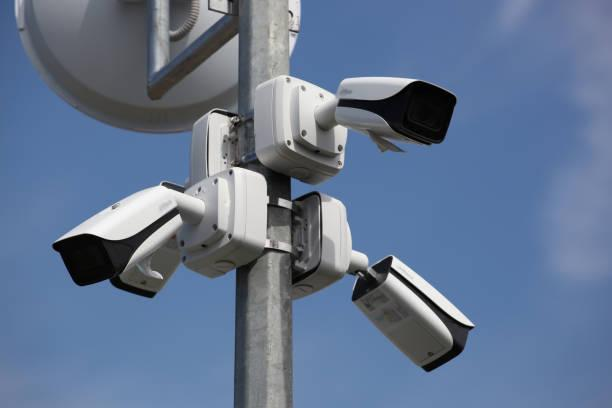camera: (20, 150, 201, 310), (346, 229, 477, 394), (319, 57, 470, 179)
